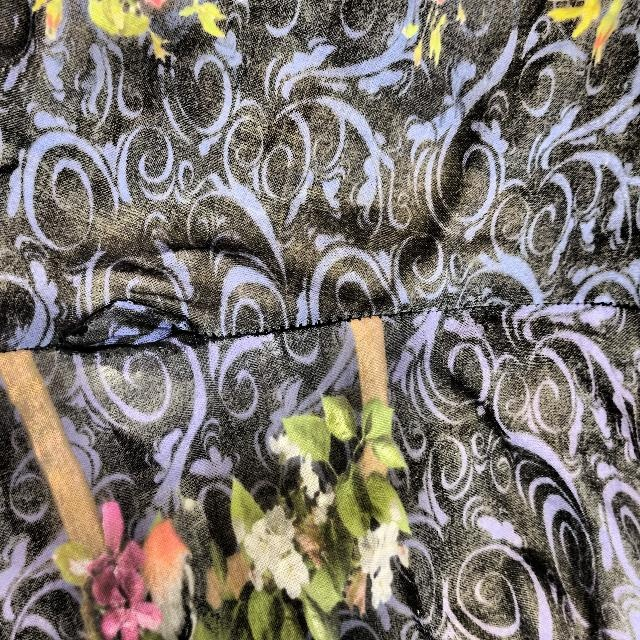seam: (6, 243, 282, 432)
